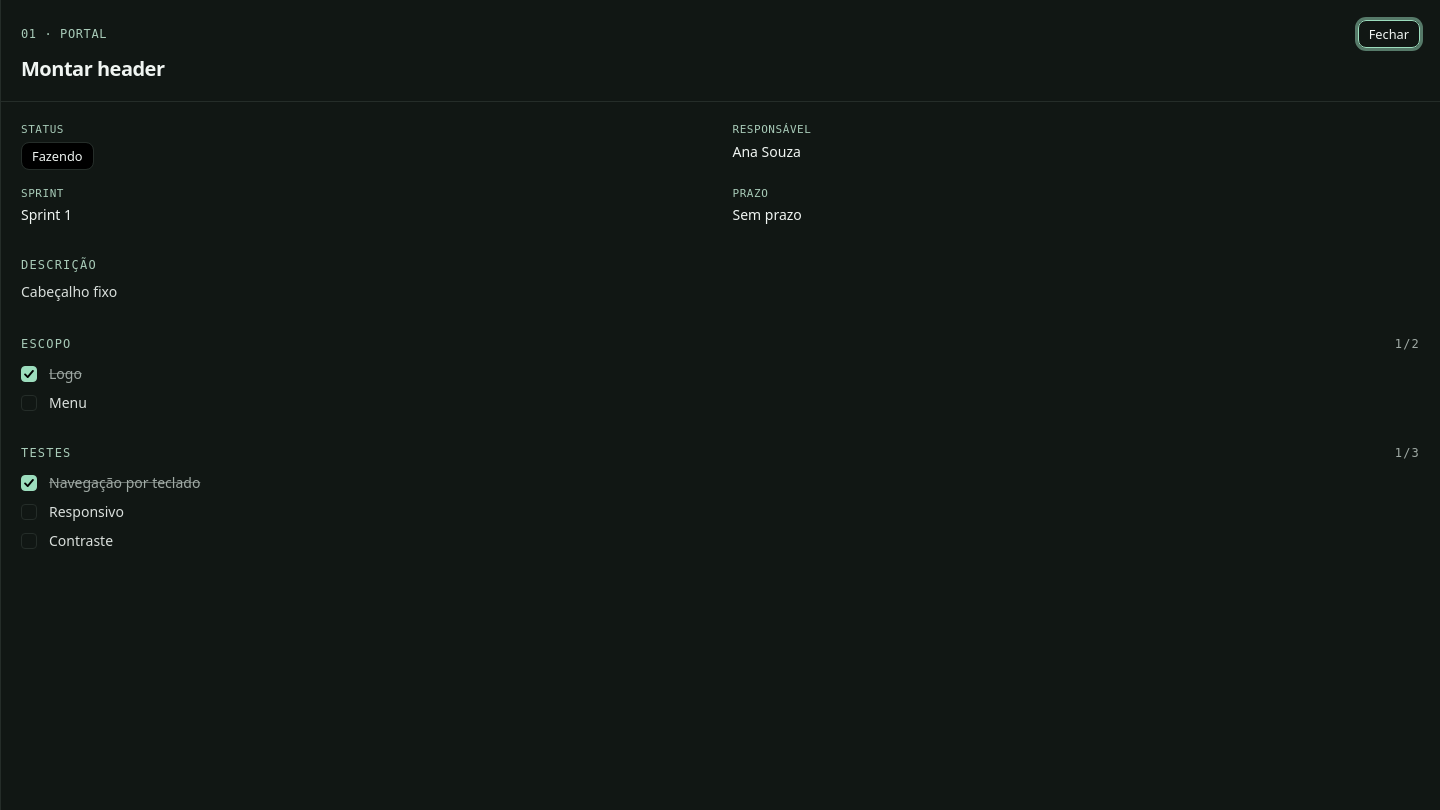
Test: Tarefas › abre o painel a partir de ?t= também na página do projeto
The image size is (1440, 810).
Expected: the dialog shows "Montar header", left=21, top=55, right=164, bottom=82
Click the button "Fechar": {"x": 1389, "y": 34} left=1358, top=20, right=1420, bottom=48
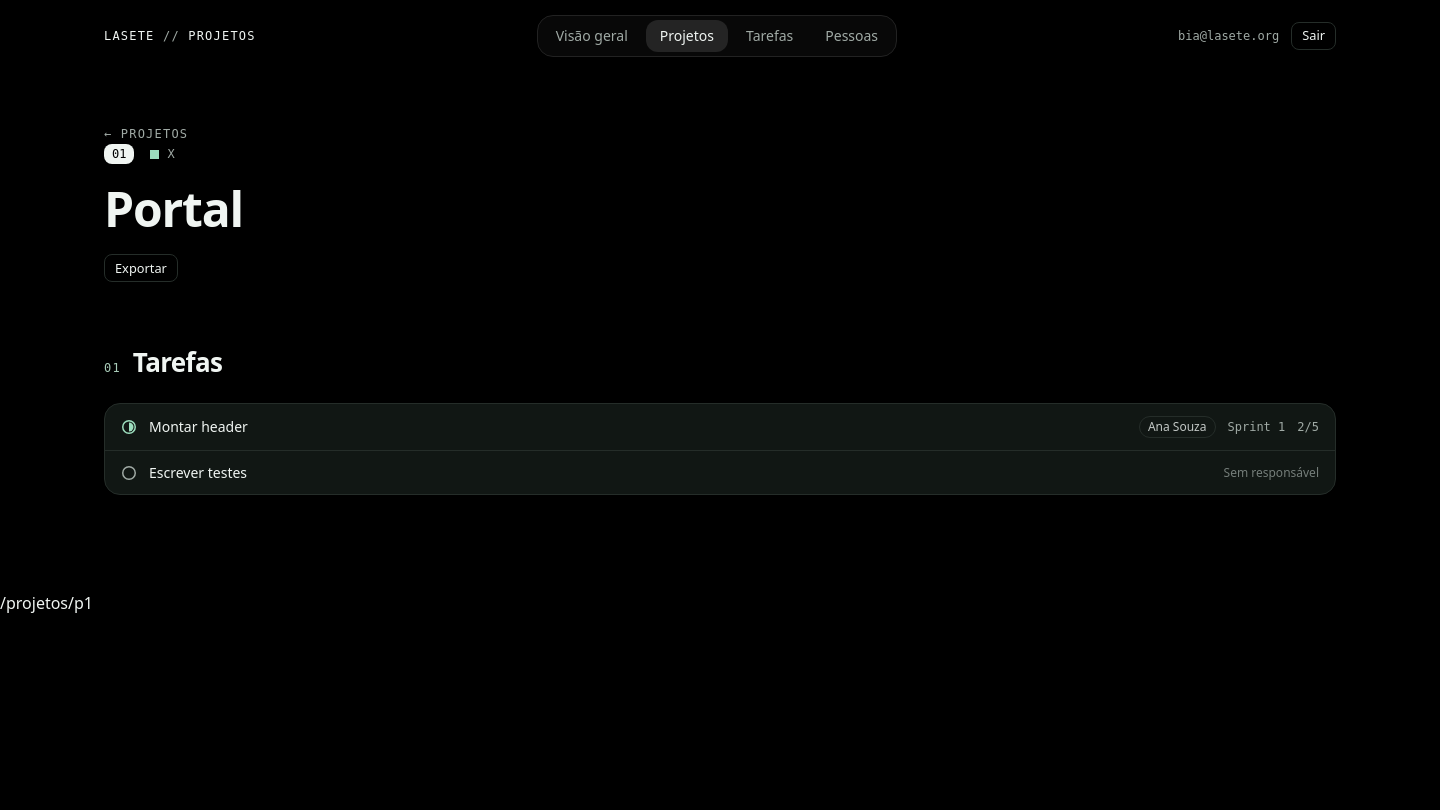
Expected: the text with test id "where" reads "/projetos/p1", left=0, top=592, right=93, bottom=614
